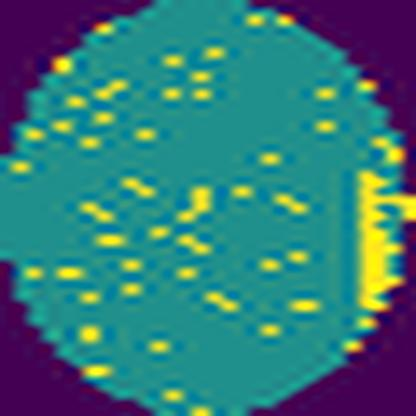Scratch: (352, 160, 416, 312)
